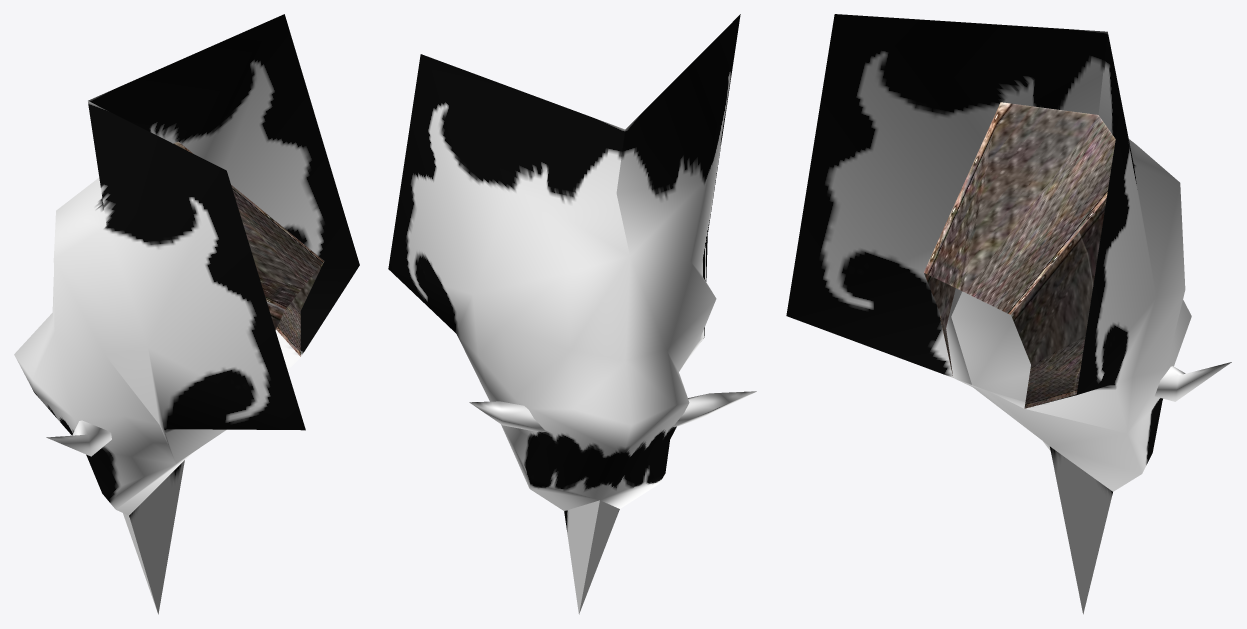
The model's file is klion18.obj.
3 views of the same model, side by side, from view 1: azimuth 30°, elevation 25°; view 2: azimuth 150°, elevation 25°; view 3: azimuth 270°, elevation 25° (orthographic). The views are drawn at different scales.
Parts seen in each view (by area): view 1: klion18; view 2: klion18; view 3: klion18.
Part boxes in pixels (x1,y1,x2,y2): klion18: (14,14,359,614); klion18: (388,14,756,614); klion18: (786,14,1231,614).
Bounding box in the file's own units: 153 × 233 × 161.
